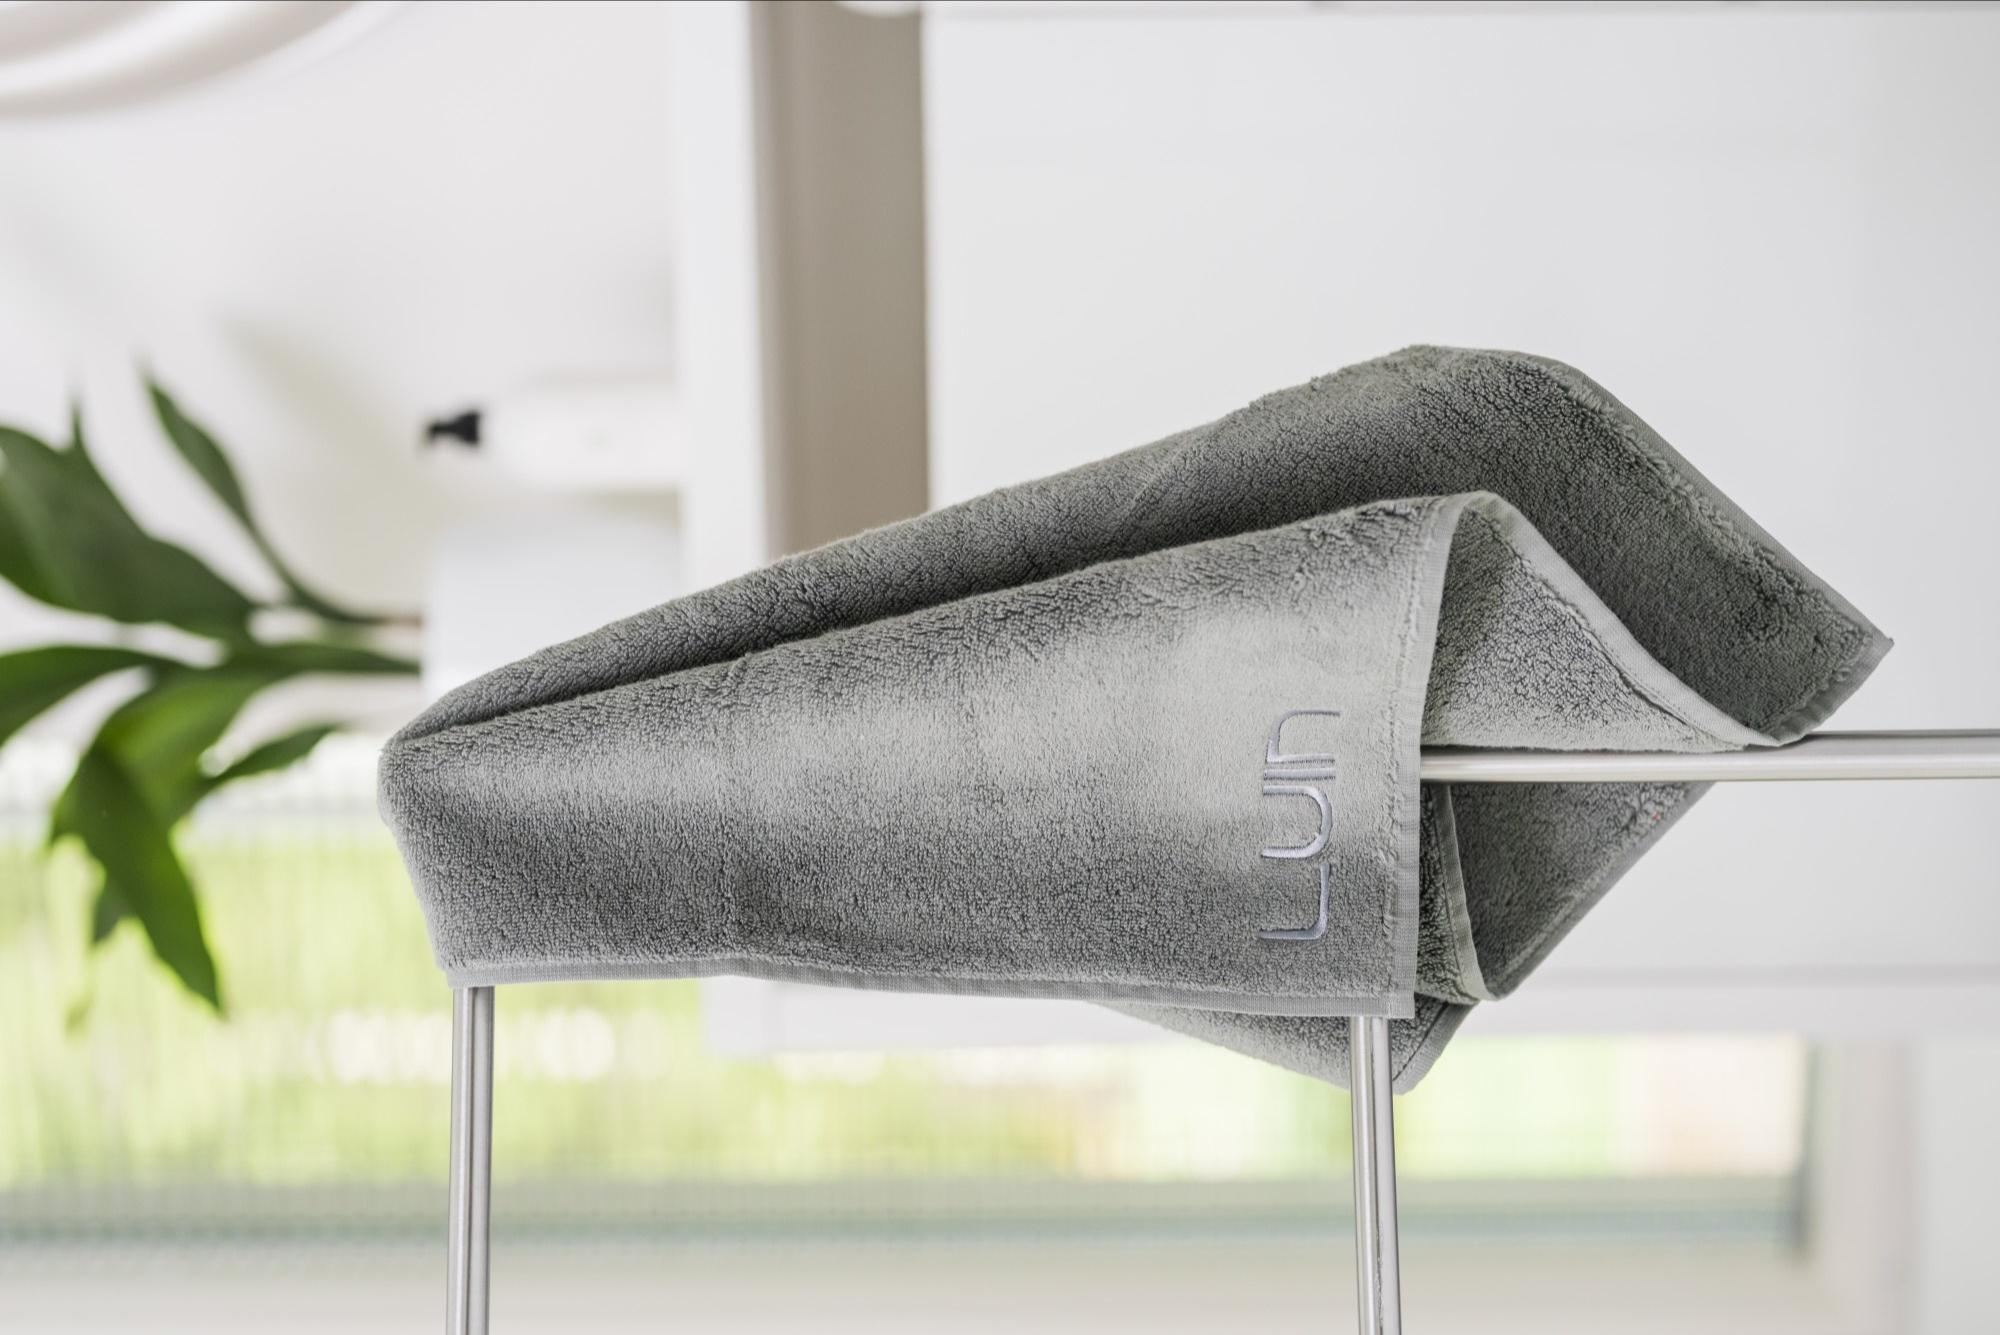towel: (283, 294, 1936, 1091)
